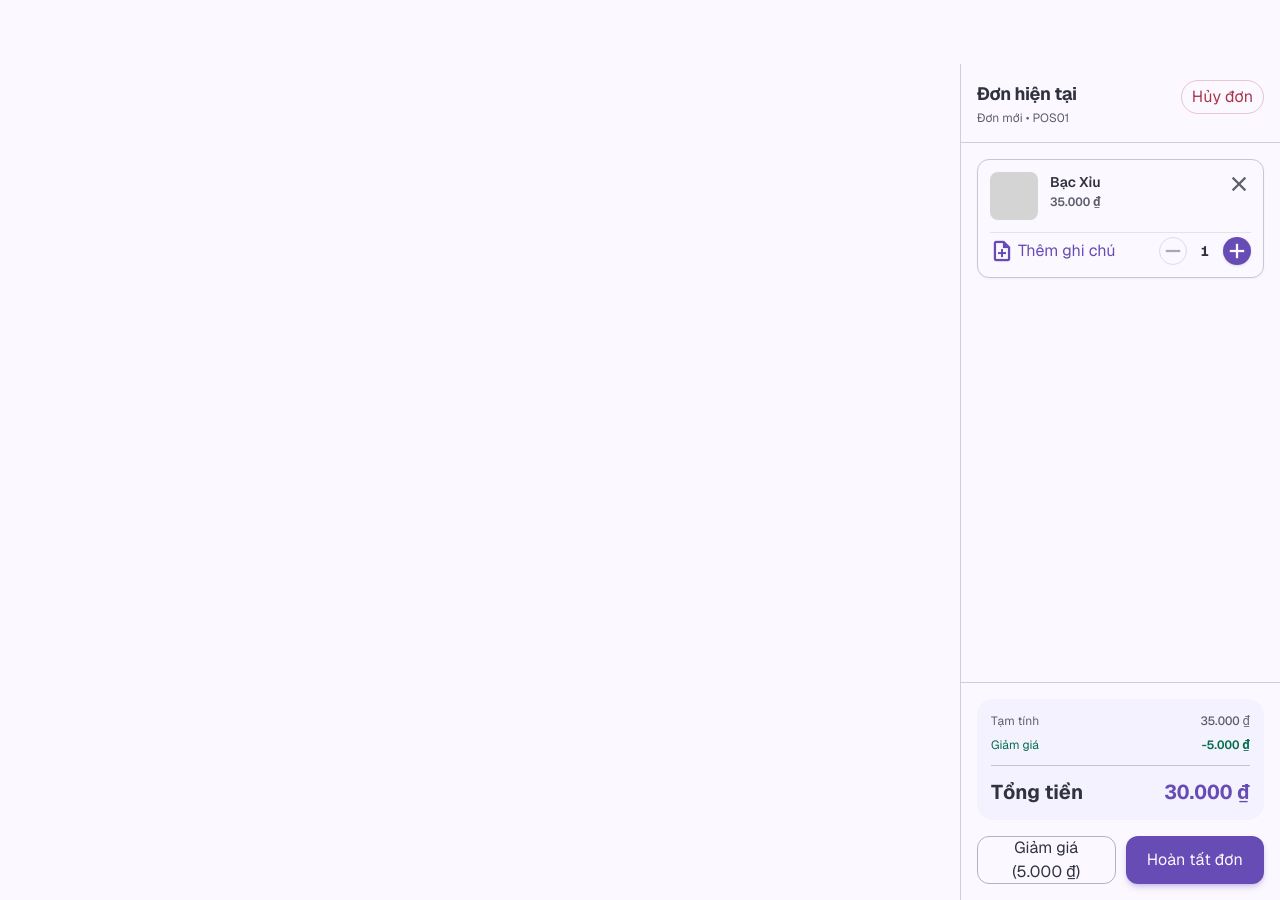
CartPanel discount modal › Bỏ giảm giá button clears discount and closes modal
The image size is (1280, 900).
Click the button "Giảm giá (5.000 ₫)" at [1046, 860], box x1=977 y1=836 x2=1116 y2=884
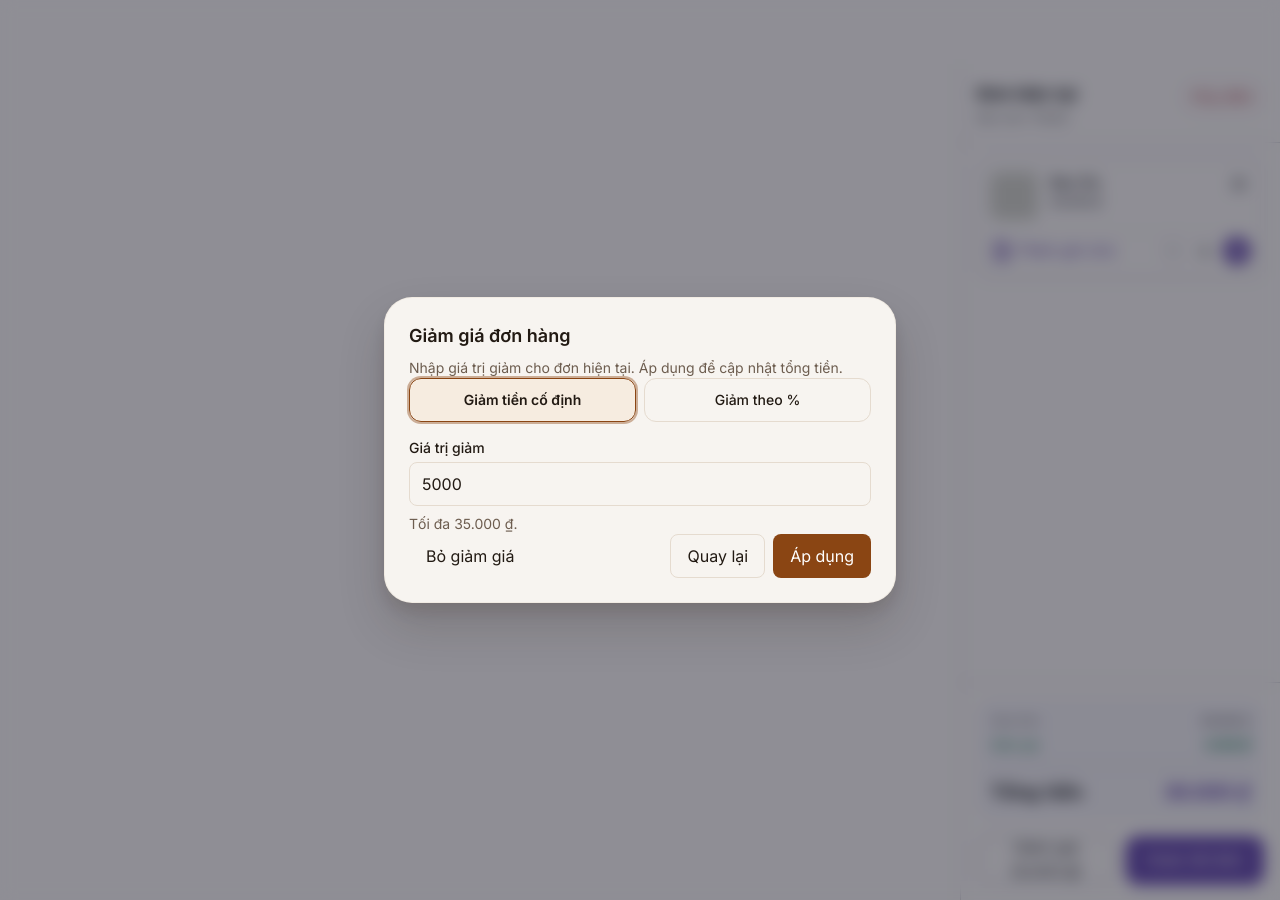
Result: the dialog is shown at x1=384 y1=297 x2=896 y2=603
Click the button "Bỏ giảm giá" at [470, 556], box x1=409 y1=534 x2=531 y2=578
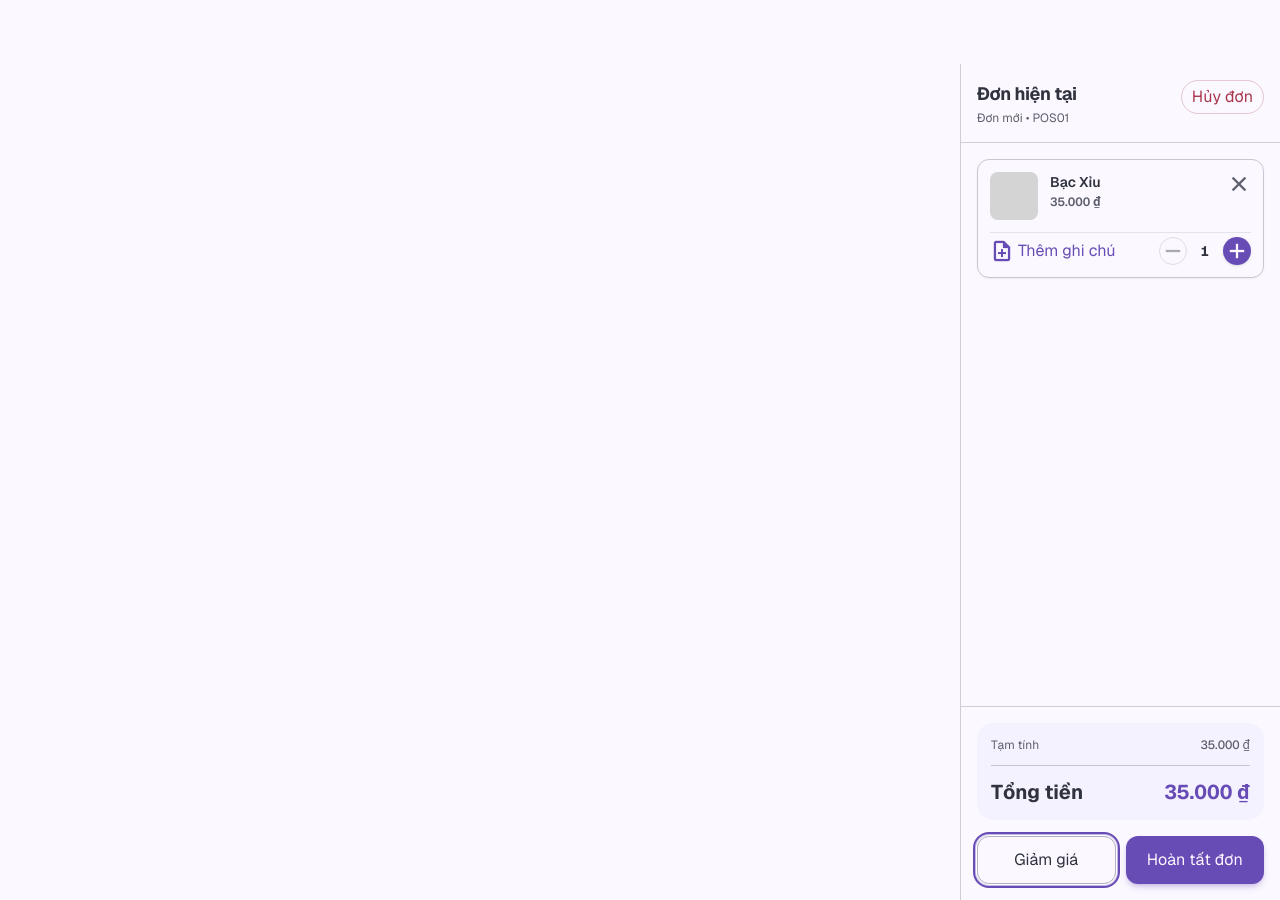
Expected: the button "Giảm giá" is shown, x1=977 y1=836 x2=1116 y2=884
Result: the dialog is gone
